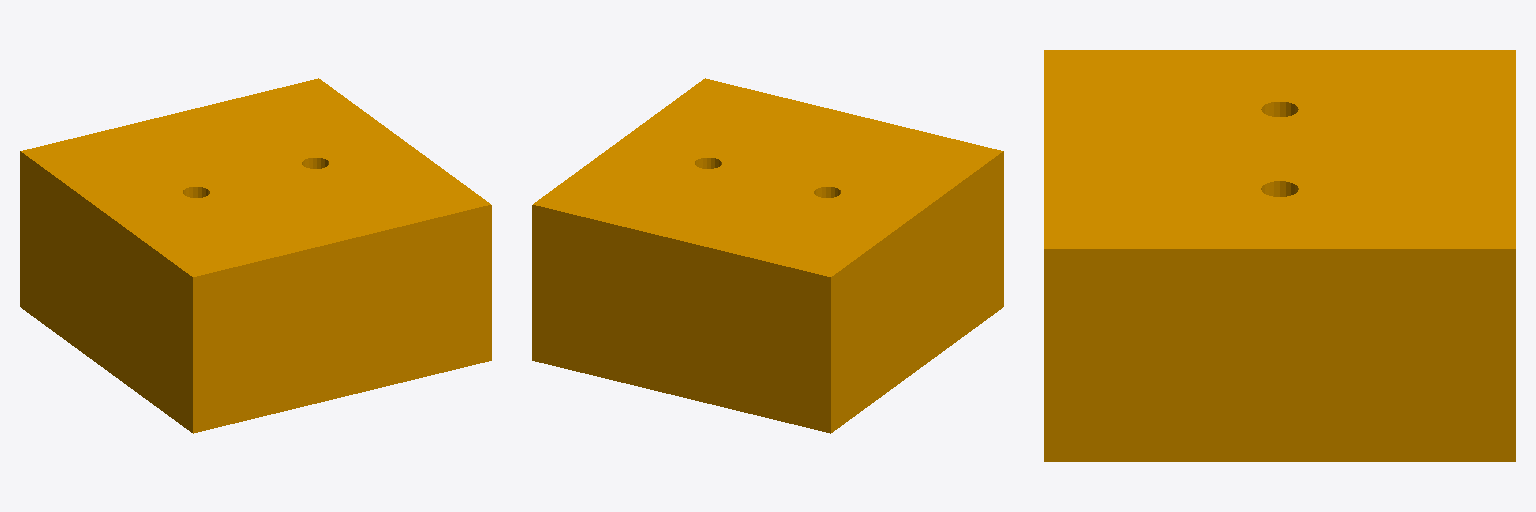
URDF robot description (block_perfect):
<?xml version="1.0"?>
<robot name="block_perfect">

<link name="base_link">

  <collision>
    <origin xyz="0 0 0" rpy="0 0 0"/>
    <geometry>
      <mesh filename="package://ur_description/meshes/ur3/collision/block_perfect.dae" scale="1 1 1"/>
    </geometry>
  </collision>

  <visual>
    <origin xyz="0 0 0" rpy="0 0 0"/>
    <geometry>
      <mesh filename="package://ur_description/meshes/ur3/visual/block_perfect.dae" scale="1 1 1"/>
    </geometry>
  </visual>

  <inertial>
   <origin xyz="0 0 0" rpy="0 0 0"/>
   <mass value="100" />
   <inertia
      ixx="0.00000379215" ixy="0.0"  ixz="0.0"
      iyy="0.00000379215" iyz="0.0"  izz="0.00000379215" />
  </inertial>

</link>

<gazebo reference="base_link">
  <mu1>100</mu1>
  <mu2>100</mu2>
  <kp>2147483647</kp>
  <kd>1</kd>
  <maxVel>0</maxVel>
  <minDepth>0.001</minDepth>
  <material>Gazebo/Grey</material>
</gazebo>

</robot>

--- Render facts (derived) ---
The picture shows the robot from 3 angles, left to right: view 1: azimuth 30°, elevation 25°; view 2: azimuth 150°, elevation 25°; view 3: azimuth 270°, elevation 25°; orthographic projection.
Robot: block_perfect — 1 links, 0 joints (none); root link base_link; default pose: every joint at zero.
Visible links, largest first — view 1: base_link; view 2: base_link; view 3: base_link.
Boxes of the visible links, x1=… form: base_link: x1=20, y1=78, x2=491, y2=433; base_link: x1=532, y1=78, x2=1003, y2=433; base_link: x1=1044, y1=50, x2=1515, y2=461.
Bounding box of the posed robot: 0.1 × 0.1 × 0.05 m (x, y, z).
Meshes: 1 distinct files referenced, 1 mesh visuals loaded (1 Collada DAE).
